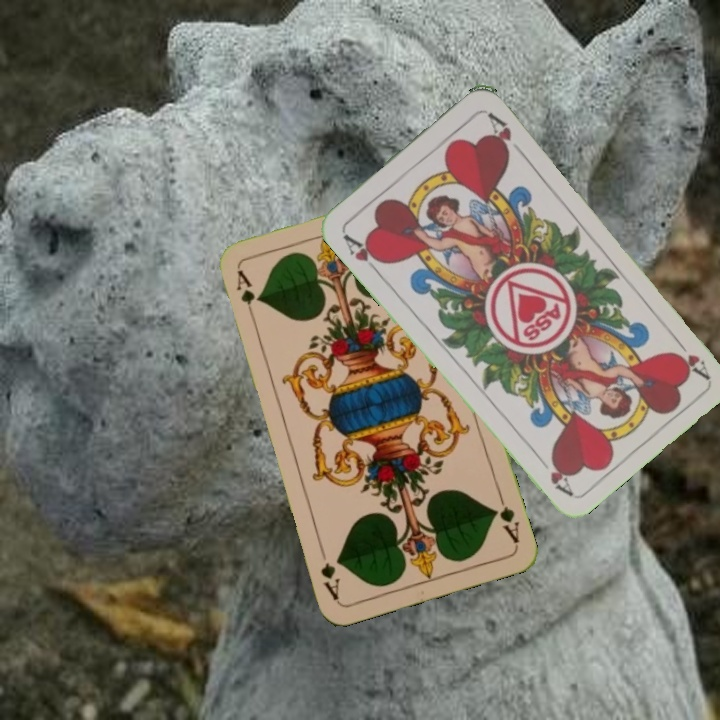GA: (489, 490, 522, 546), (232, 265, 260, 324)
HA: (339, 229, 388, 277), (668, 330, 712, 381)
